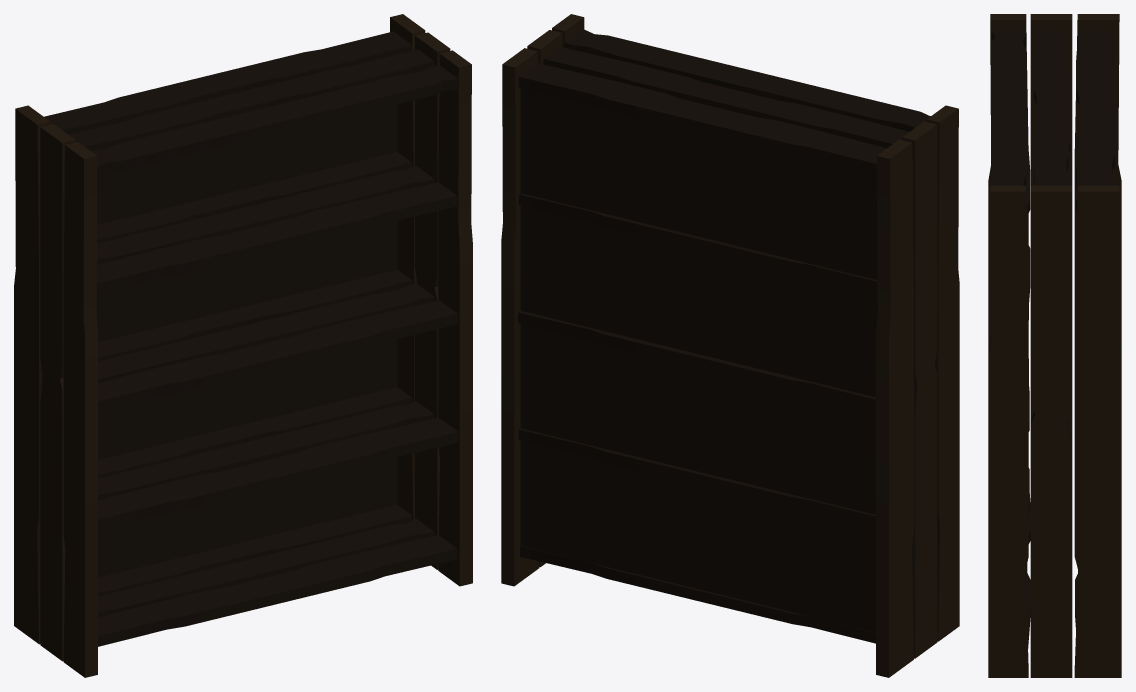
The model's file is Bookcase_Empty.obj.
3 renders of one model, left to right at view 1: azimuth 30°, elevation 25°; view 2: azimuth 150°, elevation 25°; view 3: azimuth 270°, elevation 25°, orthographic. The views are drawn at different scales.
Visible parts, largest first — view 1: Bookcase_Empty_Cylinder.001; view 2: Bookcase_Empty_Cylinder.001; view 3: Bookcase_Empty_Cylinder.001.
Boxes of the visible parts, box(x1,y1,x2,y2) form: Bookcase_Empty_Cylinder.001: box(14, 14, 472, 677); Bookcase_Empty_Cylinder.001: box(501, 14, 959, 677); Bookcase_Empty_Cylinder.001: box(988, 14, 1121, 677).
Bounding box in the file's own units: 2.08 × 2.65 × 0.6582.
